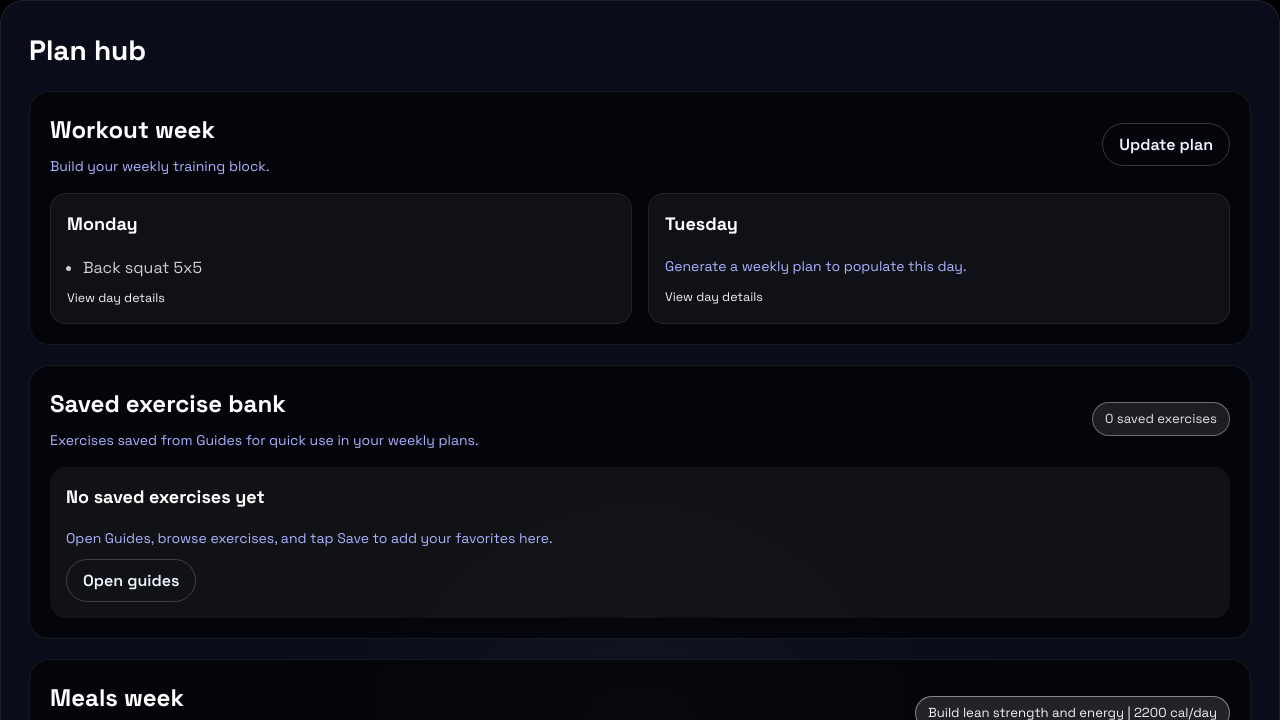
Scenario: PlansView › the day detail › opens on the day the visitor clicked
Click the button with class "hub-card-button" that starts with "Monday": (102, 224) [50,193,632,324]
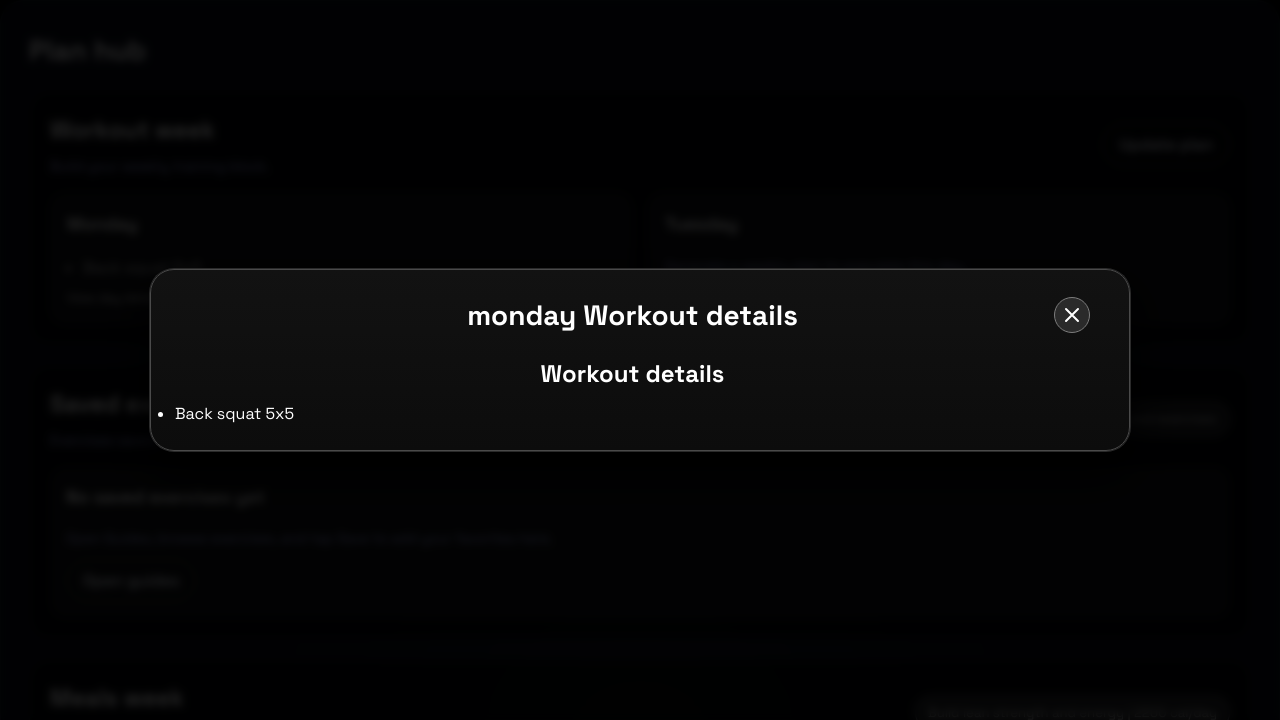
Now the dialog is shown
